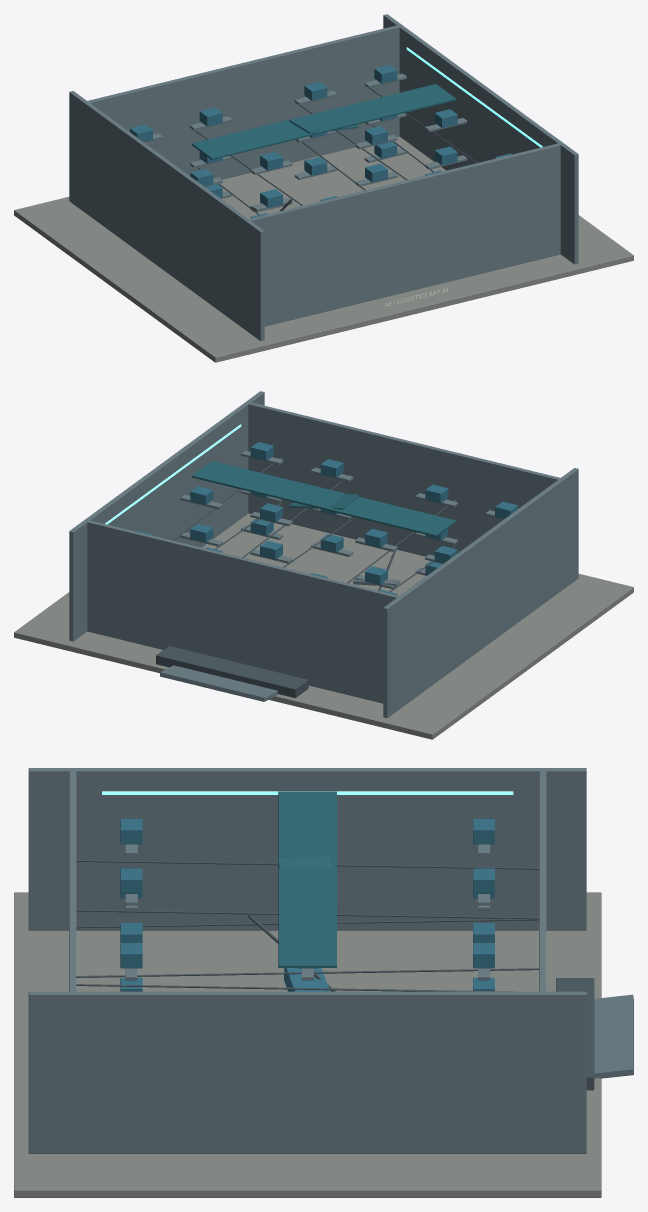
Rendered from warehouse_scene_d2.glb.
3 views of the same model, one above another, from view 1: azimuth 30°, elevation 25°; view 2: azimuth 150°, elevation 25°; view 3: azimuth 270°, elevation 25° (orthographic). The views are drawn at different scales.
Visible parts, largest first — view 1: Warehouse end wall.010, Warehouse floor.002, Warehouse end wall.008, Warehouse end wall.011, Warehouse end wall.009, Skylight.002; view 2: Warehouse end wall.011, Warehouse floor.002, Warehouse end wall.008, Warehouse end wall.010, Warehouse end wall.009, Skylight.002, Loading dock.002, Dock ramp.002; view 3: Warehouse end wall.009, Warehouse end wall.008, Warehouse floor.002, Skylight.002, Dock ramp.002, Warehouse end wall.011, Warehouse end wall.010, Wall light strip.004, Loading dock.002, Shelf diagonal.018, Shelf diagonal.017, Shelf diagonal.021 (+8 smaller).
Boxes of the visible parts, <box> form: Warehouse end wall.010: <box>248,143,560,326</box>; Warehouse floor.002: <box>14,136,633,362</box>; Warehouse end wall.008: <box>69,91,264,340</box>; Warehouse end wall.011: <box>87,25,400,179</box>; Warehouse end wall.009: <box>383,14,578,264</box>; Skylight.002: <box>192,84,455,159</box>; Warehouse end wall.011: <box>87,520,398,703</box>; Warehouse floor.002: <box>14,513,633,739</box>; Warehouse end wall.008: <box>383,468,578,717</box>; Warehouse end wall.010: <box>248,402,560,556</box>; Warehouse end wall.009: <box>69,391,264,641</box>; Skylight.002: <box>192,461,455,536</box>; Loading dock.002: <box>156,646,308,698</box>; Dock ramp.002: <box>160,665,277,701</box>; Warehouse end wall.009: <box>28,991,586,1153</box>; Warehouse end wall.008: <box>28,768,586,930</box>; Warehouse floor.002: <box>14,892,601,1197</box>; Skylight.002: <box>278,791,336,967</box>; Dock ramp.002: <box>594,994,633,1078</box>; Warehouse end wall.011: <box>539,770,546,992</box>; Warehouse end wall.010: <box>69,770,76,992</box>; Wall light strip.004: <box>102,791,513,794</box>; Loading dock.002: <box>556,978,594,1090</box>; Shelf diagonal.018: <box>76,968,538,977</box>; Shelf diagonal.017: <box>76,860,538,869</box>; Shelf diagonal.021: <box>76,984,513,991</box>.
Size of the model in its own units: 24 by 6.53 by 21.11.
